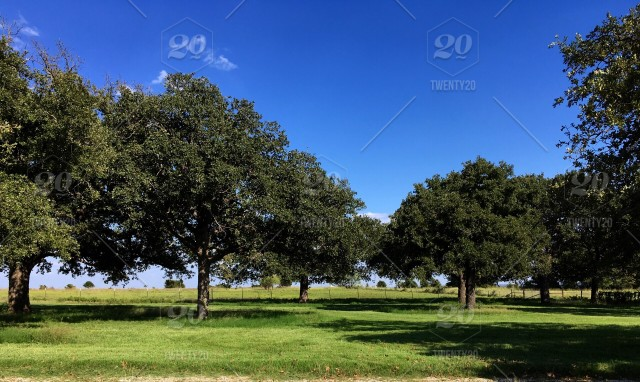tree: (102, 66, 286, 313), (1, 37, 119, 323), (379, 157, 553, 307), (247, 145, 372, 303)
